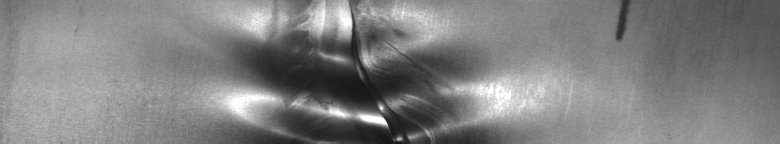ke: (268, 4, 463, 136)
